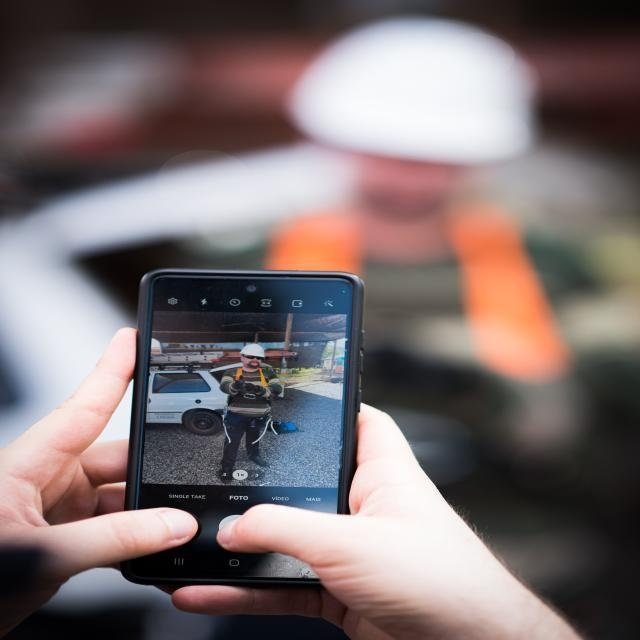Arnes_seguridad: (222, 364, 268, 445)
